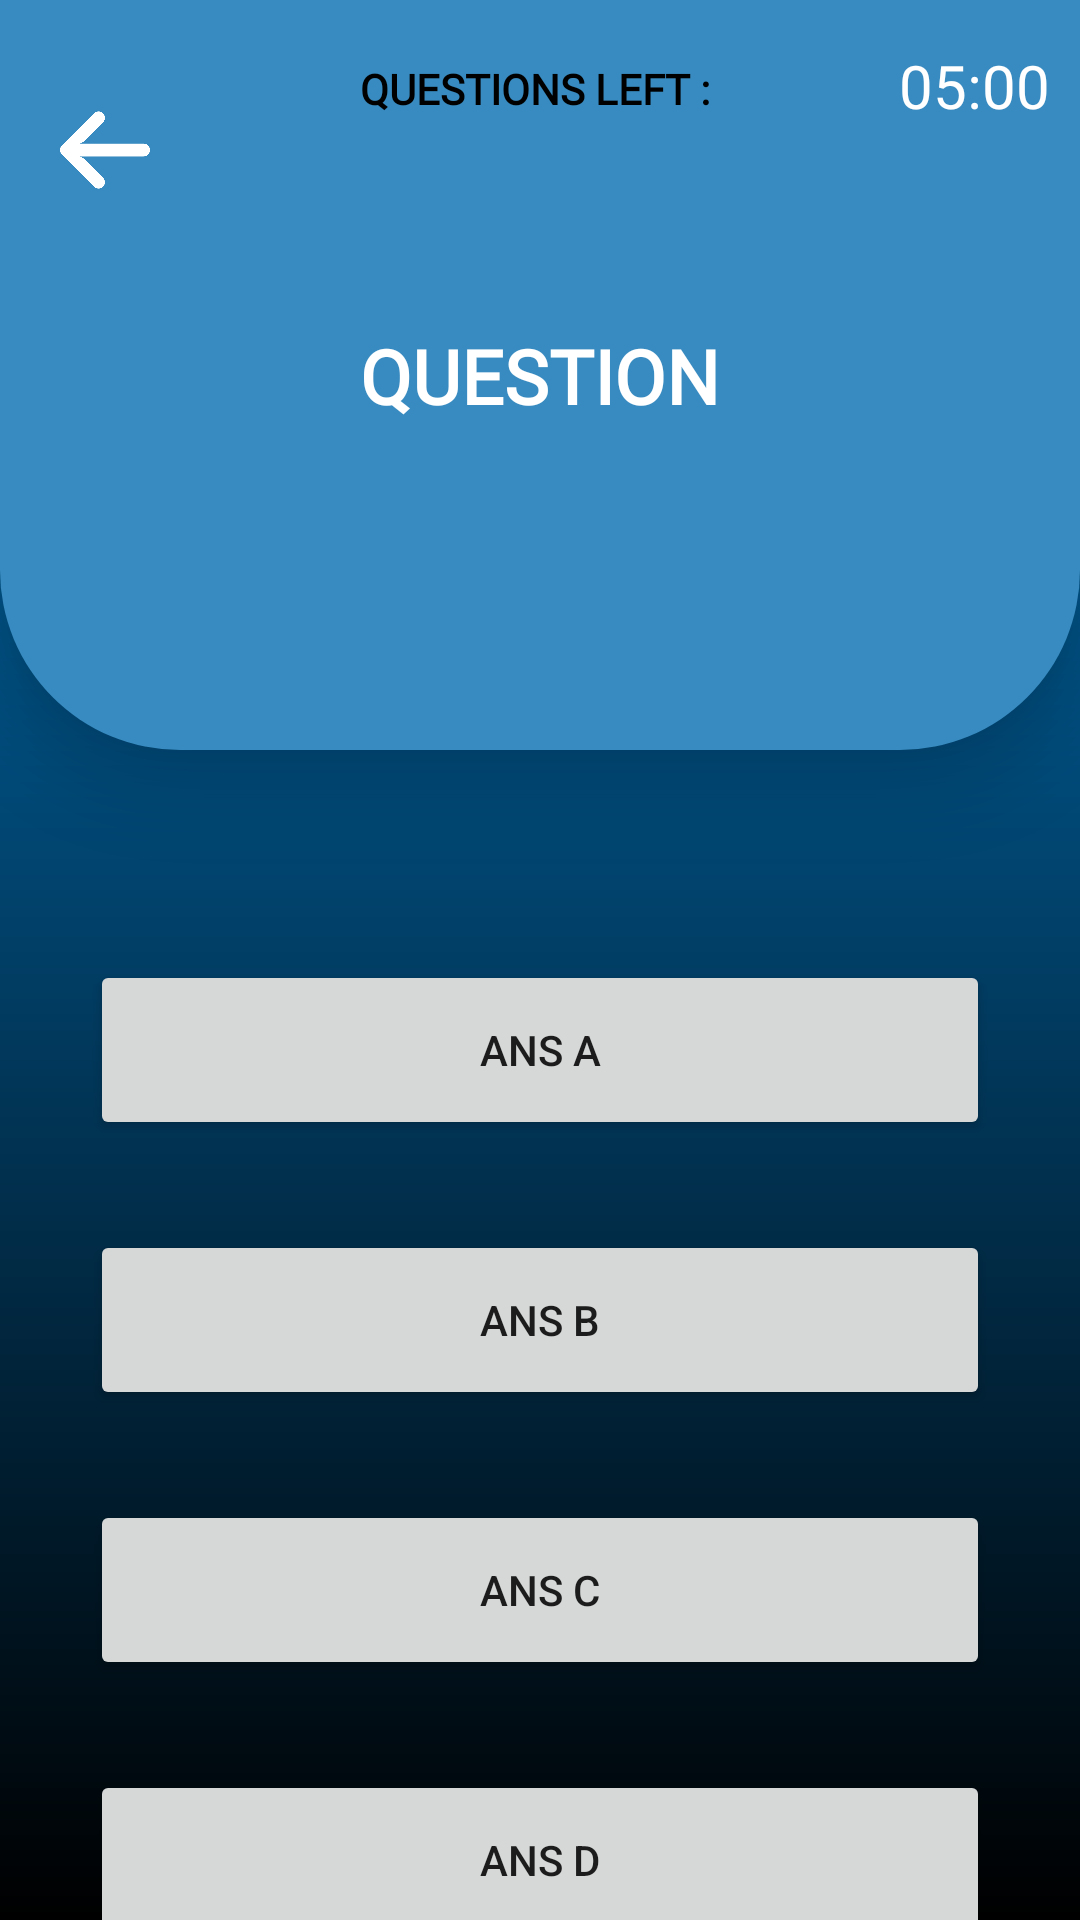

Icons on this 1080 x 1920 Android screen, each with its box as (x1, y1, x2, y2):
backarrow: (60, 111, 150, 189)
